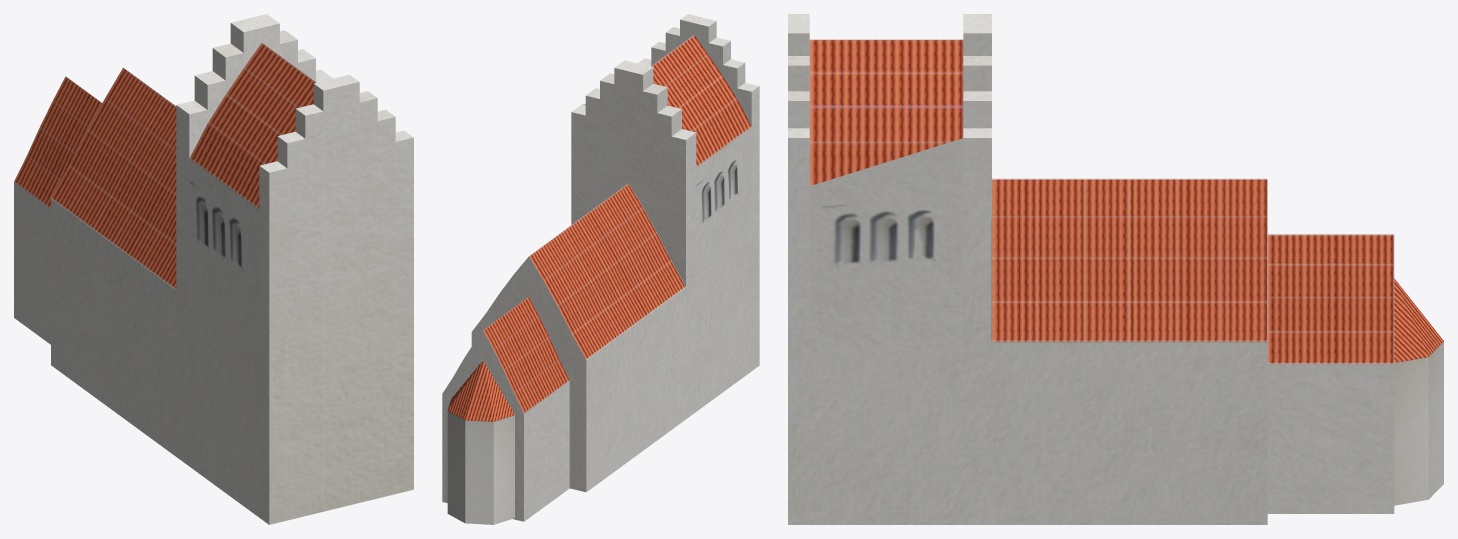
File: Greve_kirke.fbx
3 views of the same model, side by side, from view 1: azimuth 30°, elevation 25°; view 2: azimuth 150°, elevation 25°; view 3: azimuth 270°, elevation 25° (orthographic). The views are drawn at different scales.
Visible parts, largest first — view 1: pCube1; view 2: pCube1, pCone1; view 3: pCube1, pCone1.
Boxes of the visible parts, box(x1,y1,x2,y2) form: pCube1: box(14, 14, 413, 524); pCube1: box(442, 14, 759, 521); pCone1: box(447, 361, 514, 524); pCube1: box(788, 14, 1394, 524); pCone1: box(1394, 278, 1443, 505).
Bounding box in the file's own units: 6.38 × 17.75 × 22.81.
